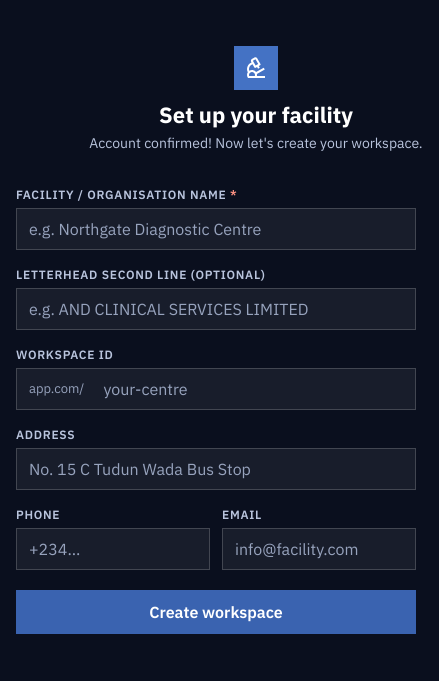
it: Onboarding — manual facility form › announces a failed workspace creation as an alert
This screenshot has width=439, height=681.
Type "Northgate Diagnostics" into the field labelled "Facility / organisation name *".
click(216, 229); type("Northgate Diagnostics")  # box [16,208,416,250]
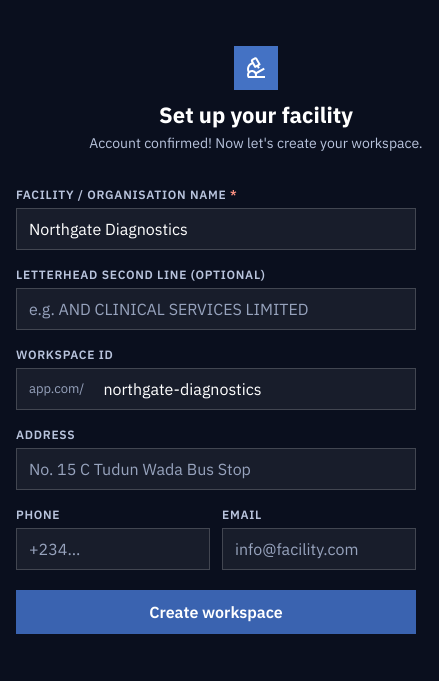
Click the button "Create workspace".
click(216, 612)  # box [16,590,416,634]
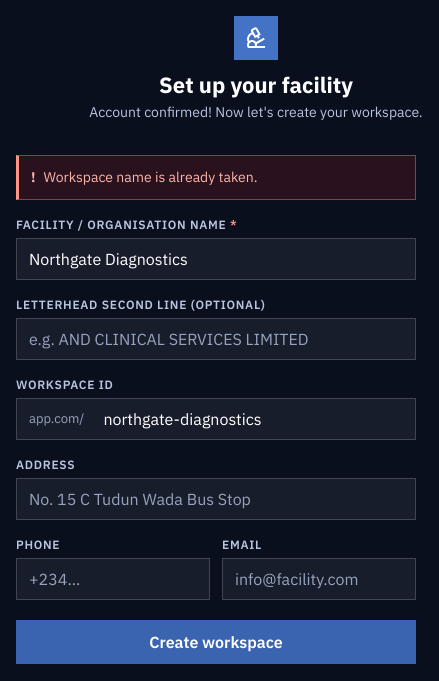
Result: the message shows "already taken" at [44,168,258,186]
